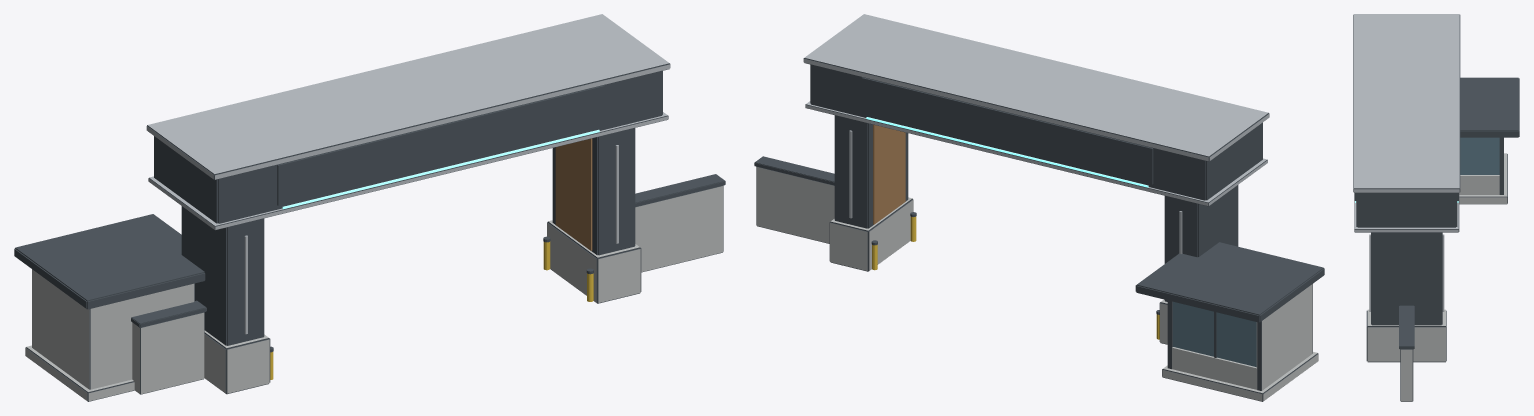
Rendered from exit_gate.glb.
The picture shows the model from 3 angles, left to right: view 1: azimuth 30°, elevation 25°; view 2: azimuth 150°, elevation 25°; view 3: azimuth 270°, elevation 25°; orthographic projection. The views are drawn at different scales.
Visible parts, largest first — view 1: ExitGate_Structure; view 2: ExitGate_Structure, ExitGate_ClearGlass; view 3: ExitGate_Structure, ExitGate_ClearGlass.
Boxes of the visible parts, box(x1,y1,x2,y2) form: ExitGate_Structure: box(14, 14, 725, 401); ExitGate_Structure: box(754, 14, 1324, 401); ExitGate_ClearGlass: box(1173, 301, 1256, 366); ExitGate_Structure: box(1353, 14, 1519, 401); ExitGate_ClearGlass: box(1460, 137, 1499, 174).
Bounding box in the file's own units: 24.5 × 8.53 × 7.08.
